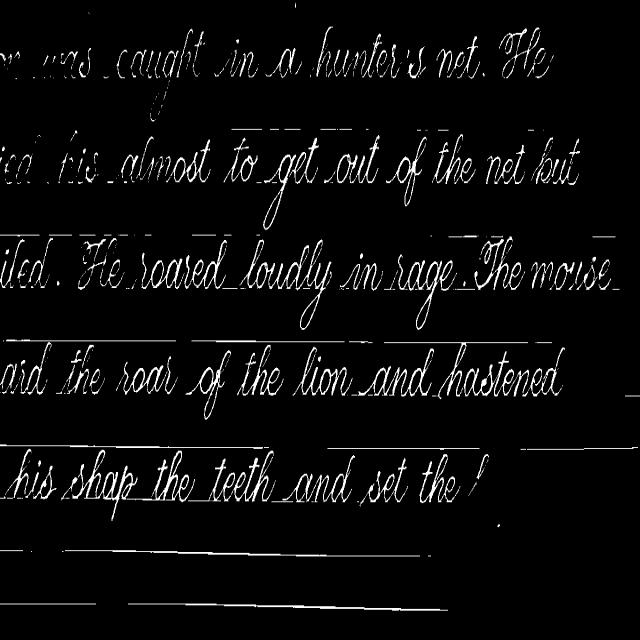noise: (126, 602, 448, 614), (0, 146, 98, 185), (59, 548, 432, 558), (0, 48, 94, 78), (0, 443, 269, 452), (191, 340, 374, 345), (520, 445, 640, 452), (326, 447, 480, 452), (4, 338, 176, 341), (0, 602, 98, 607), (383, 340, 532, 343), (448, 235, 504, 241), (230, 126, 302, 130), (318, 127, 372, 132), (48, 233, 100, 238), (0, 233, 40, 237), (270, 497, 296, 503), (0, 548, 25, 554), (190, 233, 216, 236), (187, 499, 211, 502), (415, 128, 430, 132), (116, 233, 136, 236), (126, 498, 152, 500), (624, 394, 640, 397), (536, 340, 552, 343), (434, 128, 449, 131), (593, 236, 615, 238), (526, 128, 535, 131), (102, 233, 111, 236), (144, 233, 152, 236), (224, 233, 232, 236)
not-noise: (0, 342, 564, 416), (0, 235, 618, 292), (0, 445, 489, 509), (212, 28, 486, 80), (221, 135, 386, 196), (384, 134, 476, 206), (484, 137, 580, 185), (120, 137, 211, 183), (116, 41, 205, 78), (498, 28, 554, 80), (263, 169, 291, 228), (416, 278, 438, 329), (301, 288, 322, 329)
